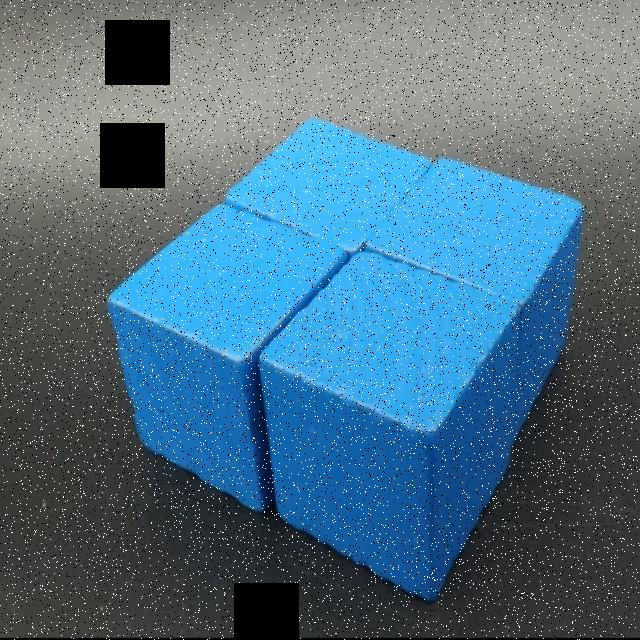bluecube: (260, 250, 522, 602), (107, 202, 348, 512), (364, 158, 584, 448), (223, 115, 434, 254)
